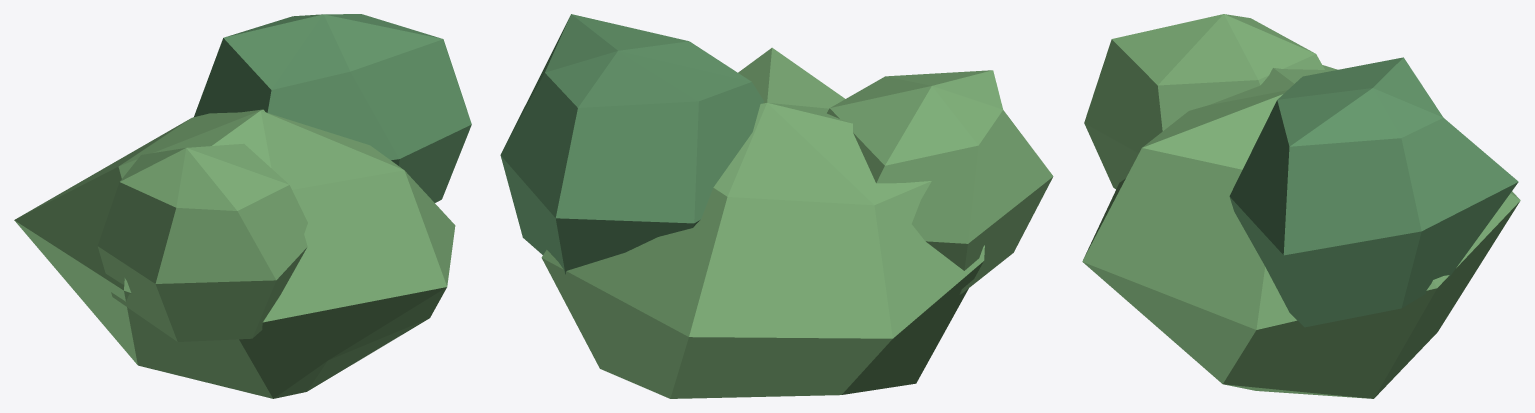
The model's file is bush.glb.
3 renders of one model, left to right at view 1: azimuth 30°, elevation 25°; view 2: azimuth 150°, elevation 25°; view 3: azimuth 270°, elevation 25°, orthographic. The views are drawn at different scales.
Parts seen in each view (by area): view 1: bush; view 2: bush; view 3: bush.
Part boxes in pixels (x1=…): bush: x1=14, y1=14, x2=471, y2=398; bush: x1=500, y1=14, x2=1053, y2=398; bush: x1=1082, y1=14, x2=1520, y2=398.
Size of the model in its own units: 1.3 by 1.04 by 1.21.
